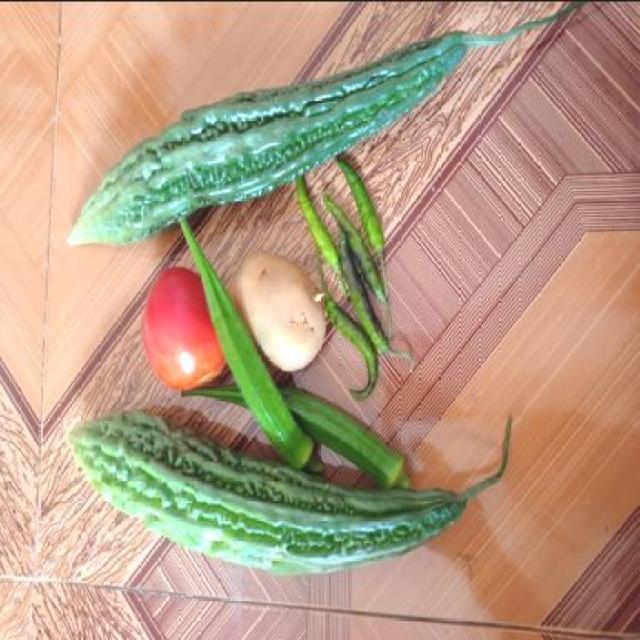Bitter melon: (70, 6, 470, 243), (79, 424, 464, 582)
Lady finger: (294, 390, 412, 488)
Tomato: (230, 249, 332, 380), (140, 263, 220, 379)
